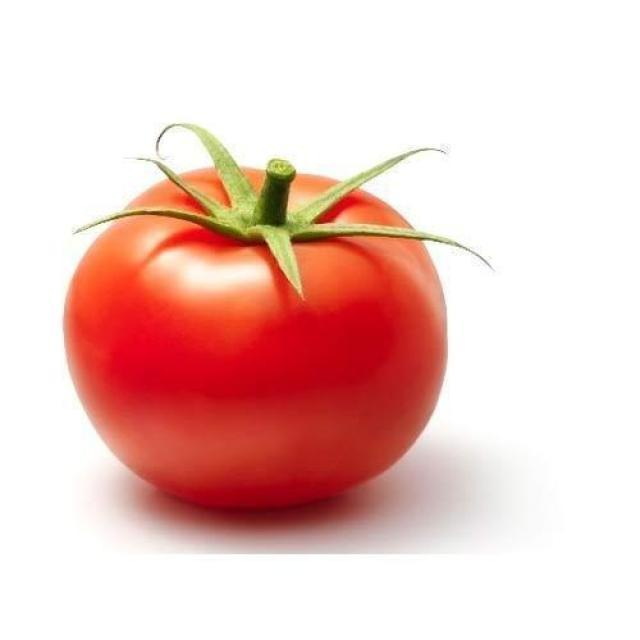kirmizi: (58, 134, 474, 522)
